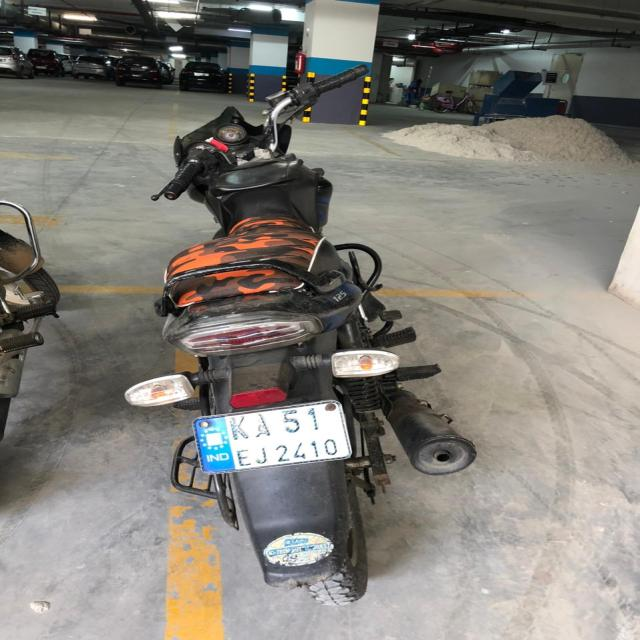license_plate: (190, 399, 354, 475)
